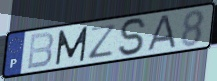8: (180, 7, 207, 48)
A: (143, 13, 178, 54)
B: (26, 31, 56, 71)
M: (54, 25, 90, 67)
S: (117, 17, 149, 58)
Z: (88, 22, 119, 60)
